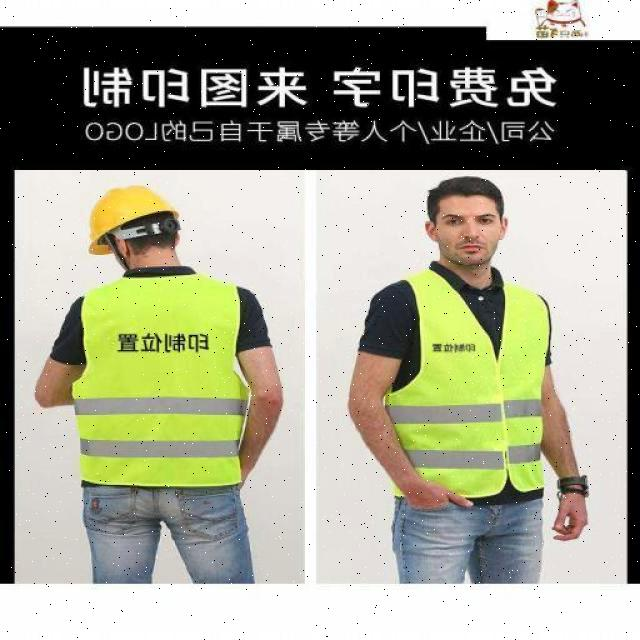Hard_hat: (83, 187, 185, 242)
Vest: (73, 269, 248, 494), (381, 267, 545, 501)
